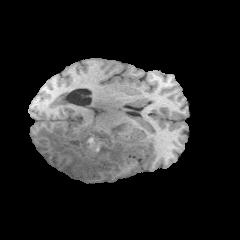glioma: (37, 122, 147, 182)
